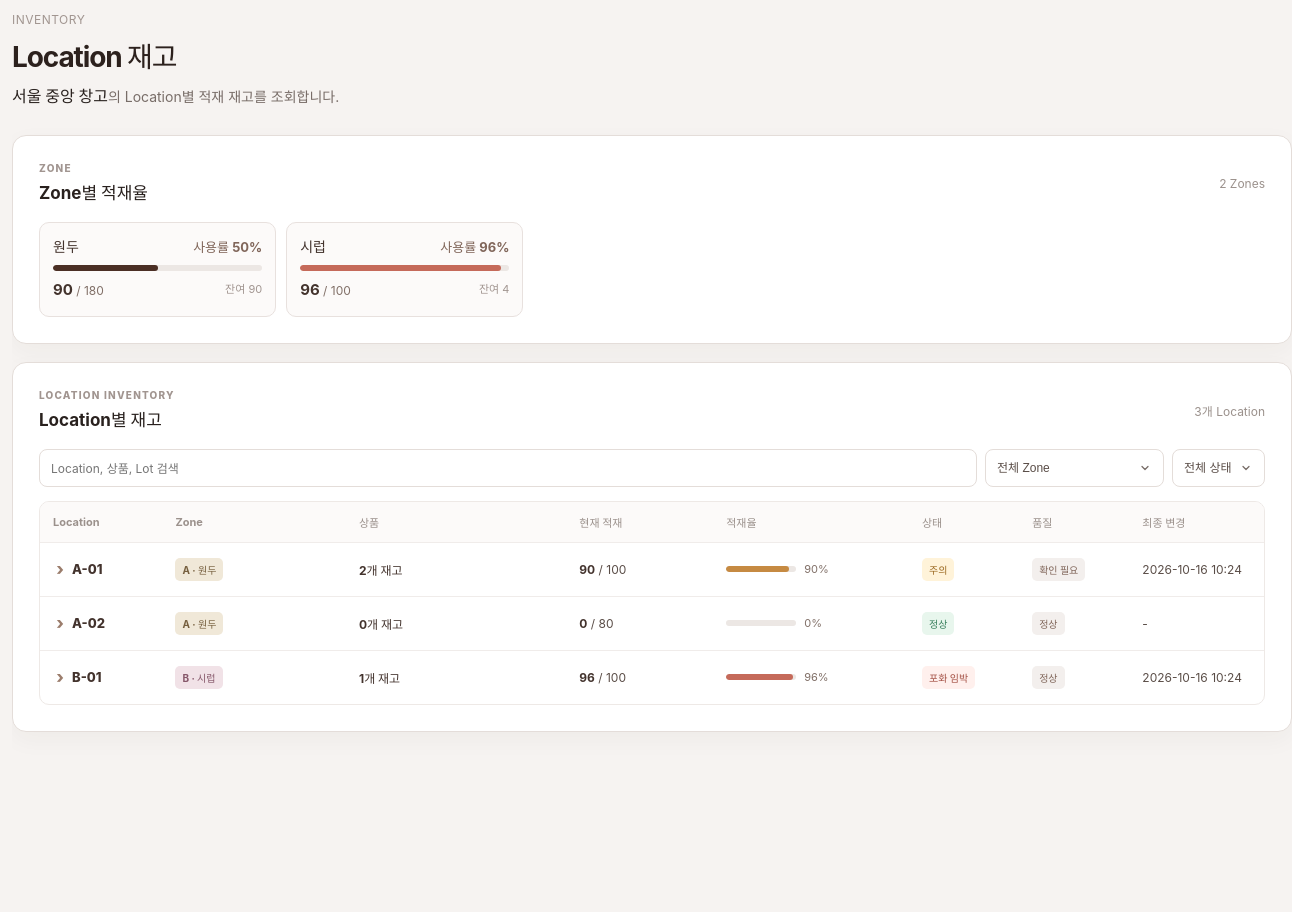
it: InventoryPage › 검색어와 Zone·상태 필터로 Location을 거른다
Type "브라질" into the field with placeholder "Location, 상품, Lot 검색" at [508, 468], box [39,449,977,487]
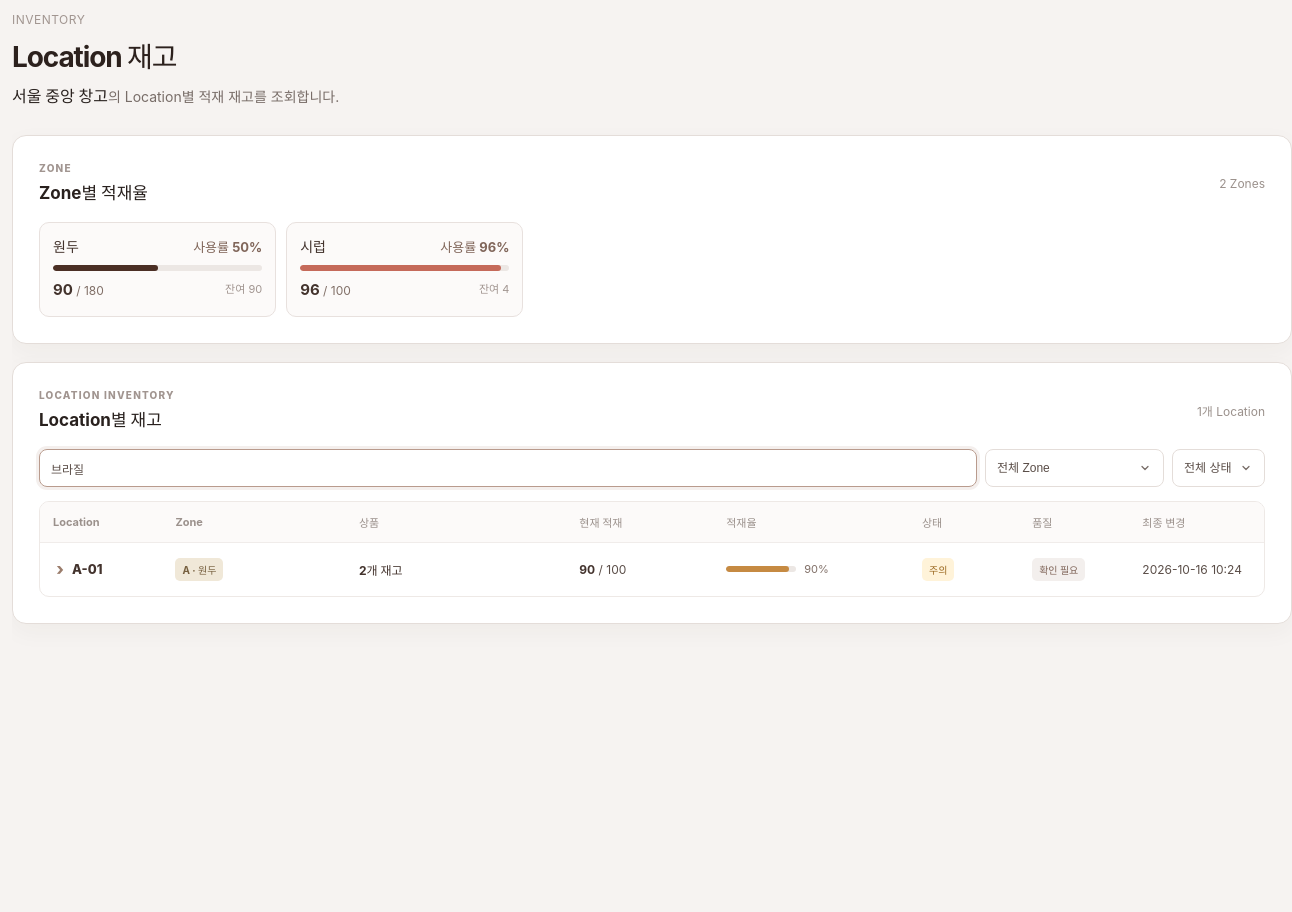
expect the button named "A-01 상품 상세 펼치기" is shown: met, box [53,561,102,578]
expect the text "1개 Location" is shown: met, box [1197,402,1265,418]
Clear the field with placeholder "Location, 상품, Lot 검색" at [508, 468], box [39,449,977,487]
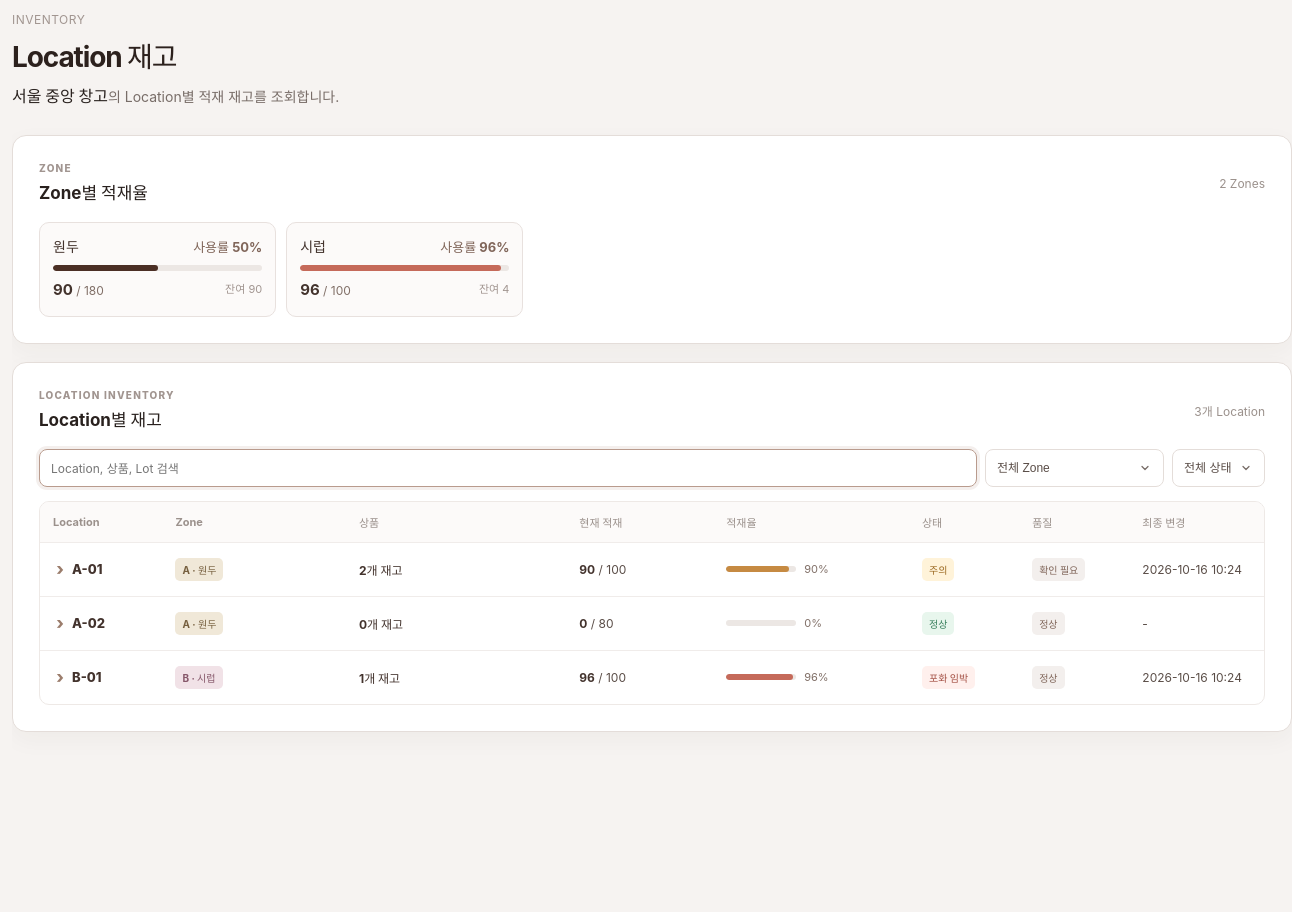
Select "B Zone · 시럽" in the dropdown named "Zone 필터" at [1074, 468], box [985,449,1164,487]
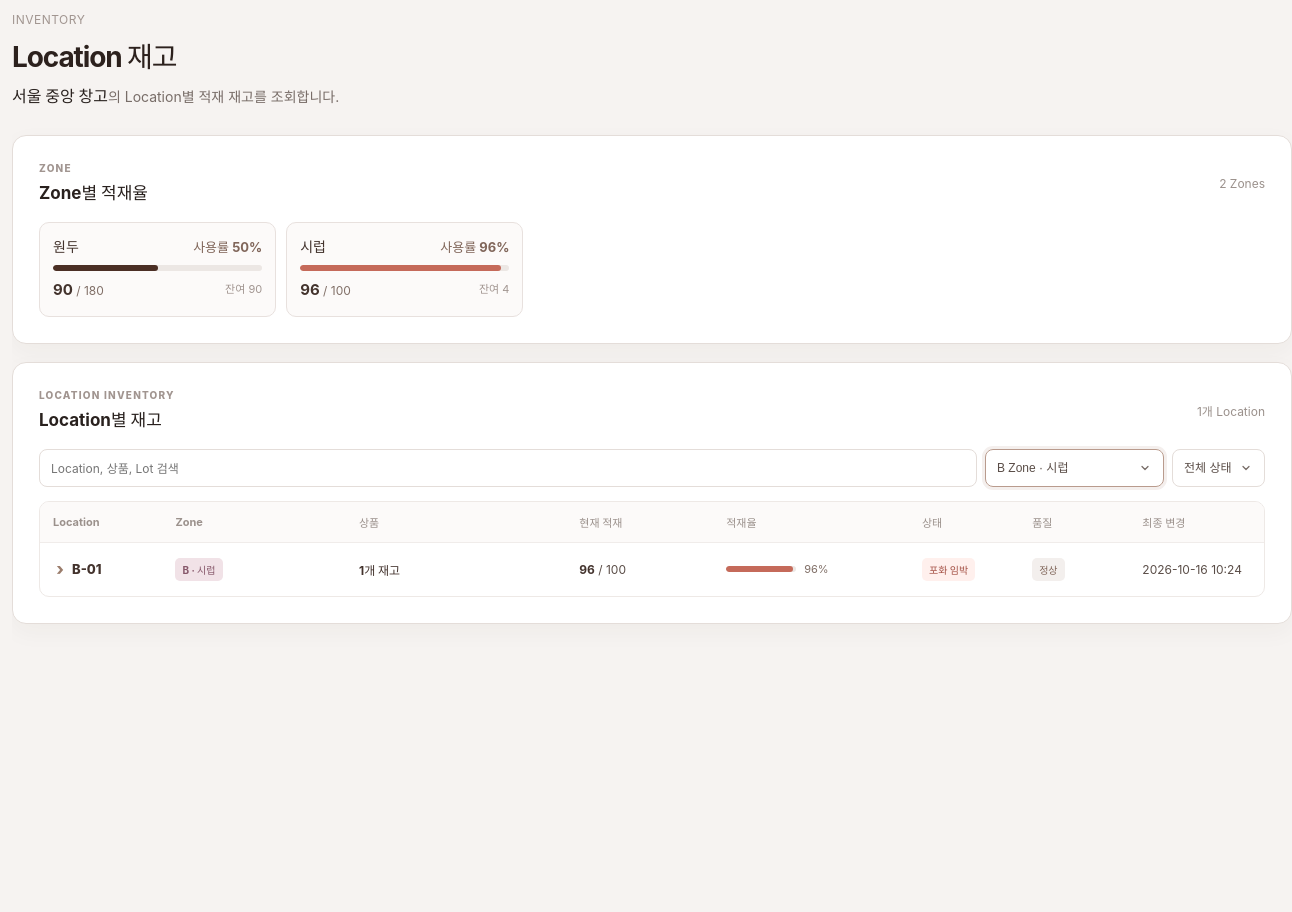
expect the button named "B-01 상품 상세 펼치기" is shown: met, box [53,561,102,578]
expect the text "1개 Location" is shown: met, box [1197,402,1265,418]
Select "전체 Zone" in the dropdown named "Zone 필터" at [1074, 468], box [985,449,1164,487]
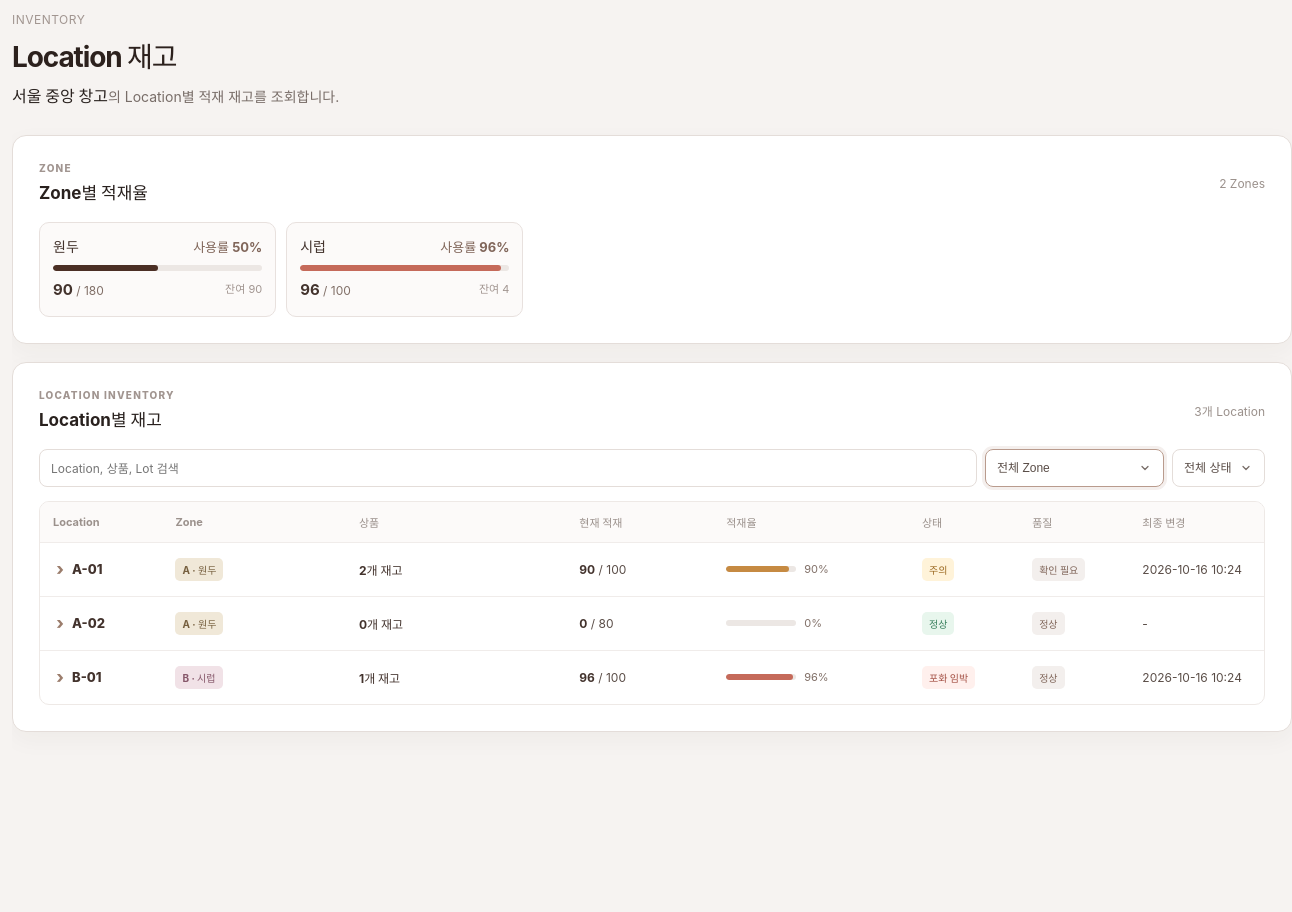
Select "정상" in the dropdown named "적재 상태 필터" at [1218, 468], box [1172,449,1265,487]
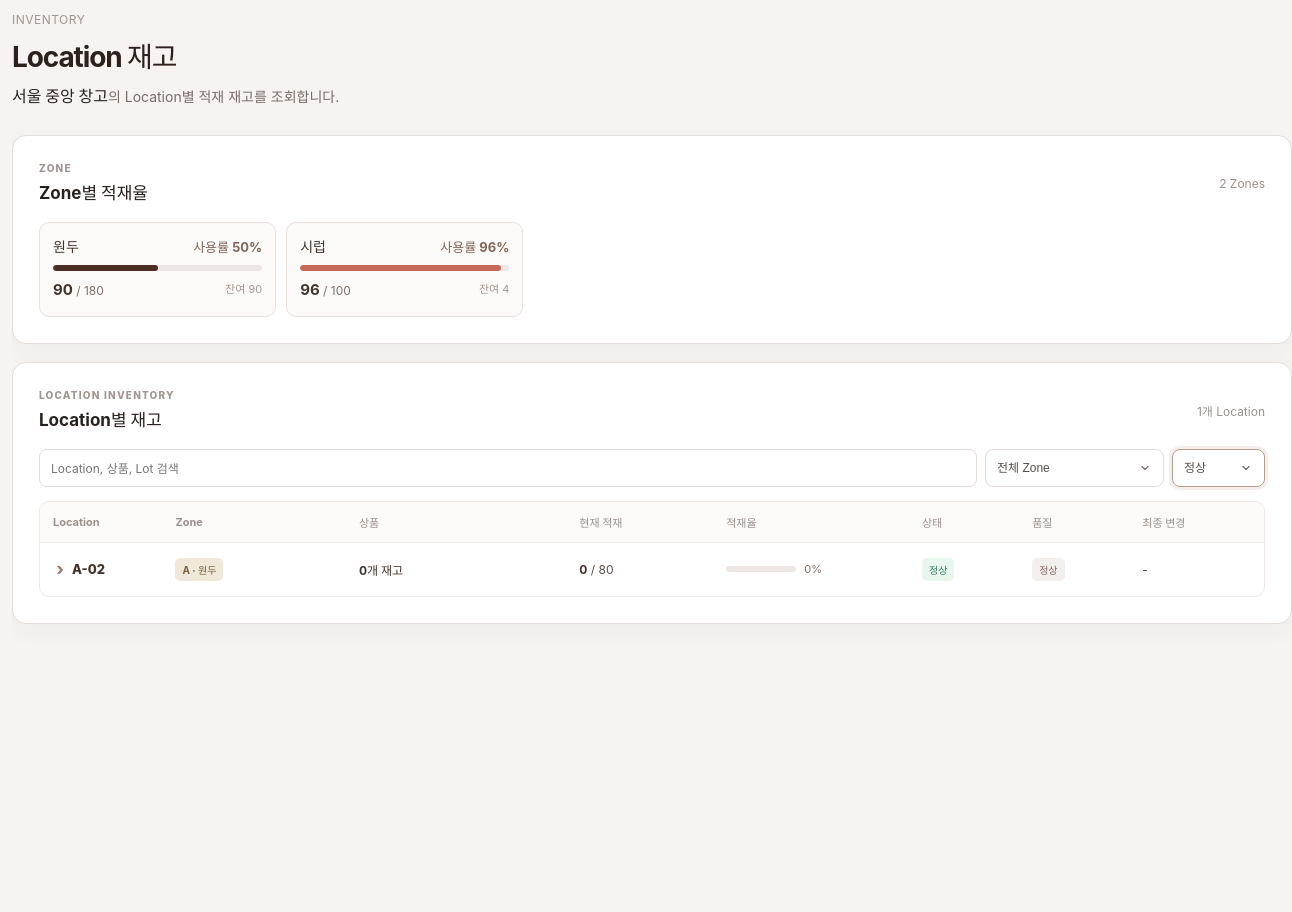
expect the button named "A-02 상품 상세 펼치기" is shown: met, box [53,561,105,578]
expect the text "1개 Location" is shown: met, box [1197,402,1265,418]
